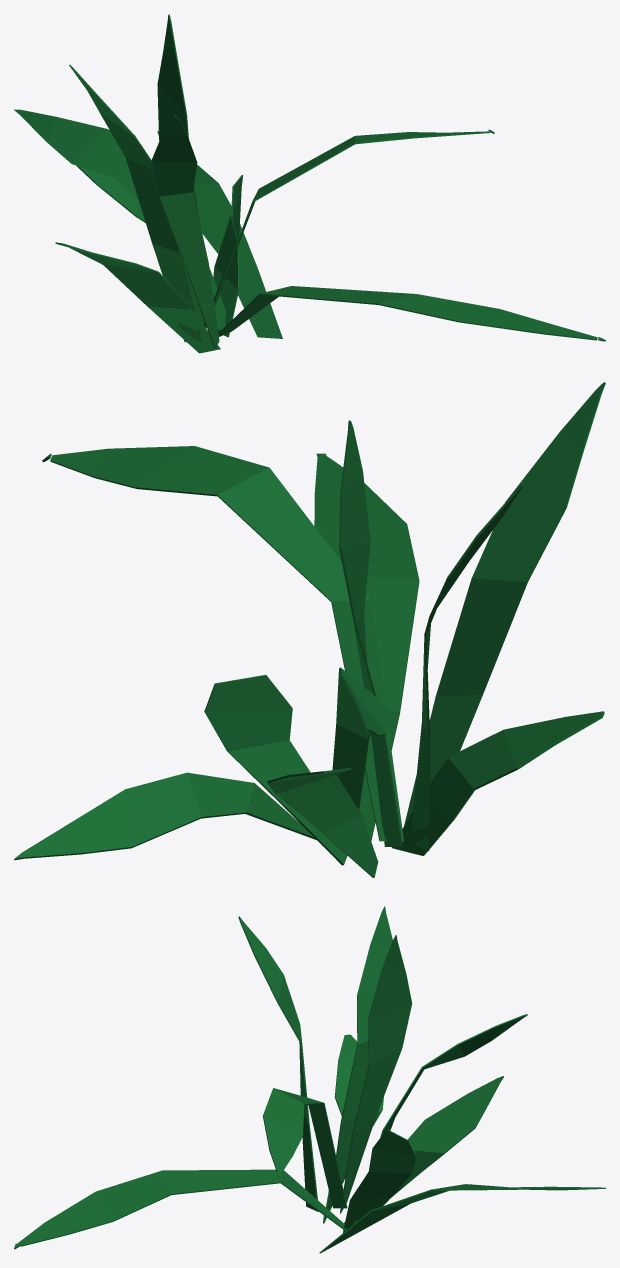
File: cosmetic plant.fbx
3 views of the same model, one above another, from view 1: azimuth 30°, elevation 25°; view 2: azimuth 150°, elevation 25°; view 3: azimuth 270°, elevation 25° (orthographic). The views are drawn at different scales.
Visible parts, largest first — view 1: Plane; view 2: Plane; view 3: Plane.
Boxes of the visible parts, x1,y1,x2,y2 form: Plane: (14,14,605,353); Plane: (14,382,605,877); Plane: (14,906,605,1253).
Bounding box in the file's own units: 228 × 170 × 318.
